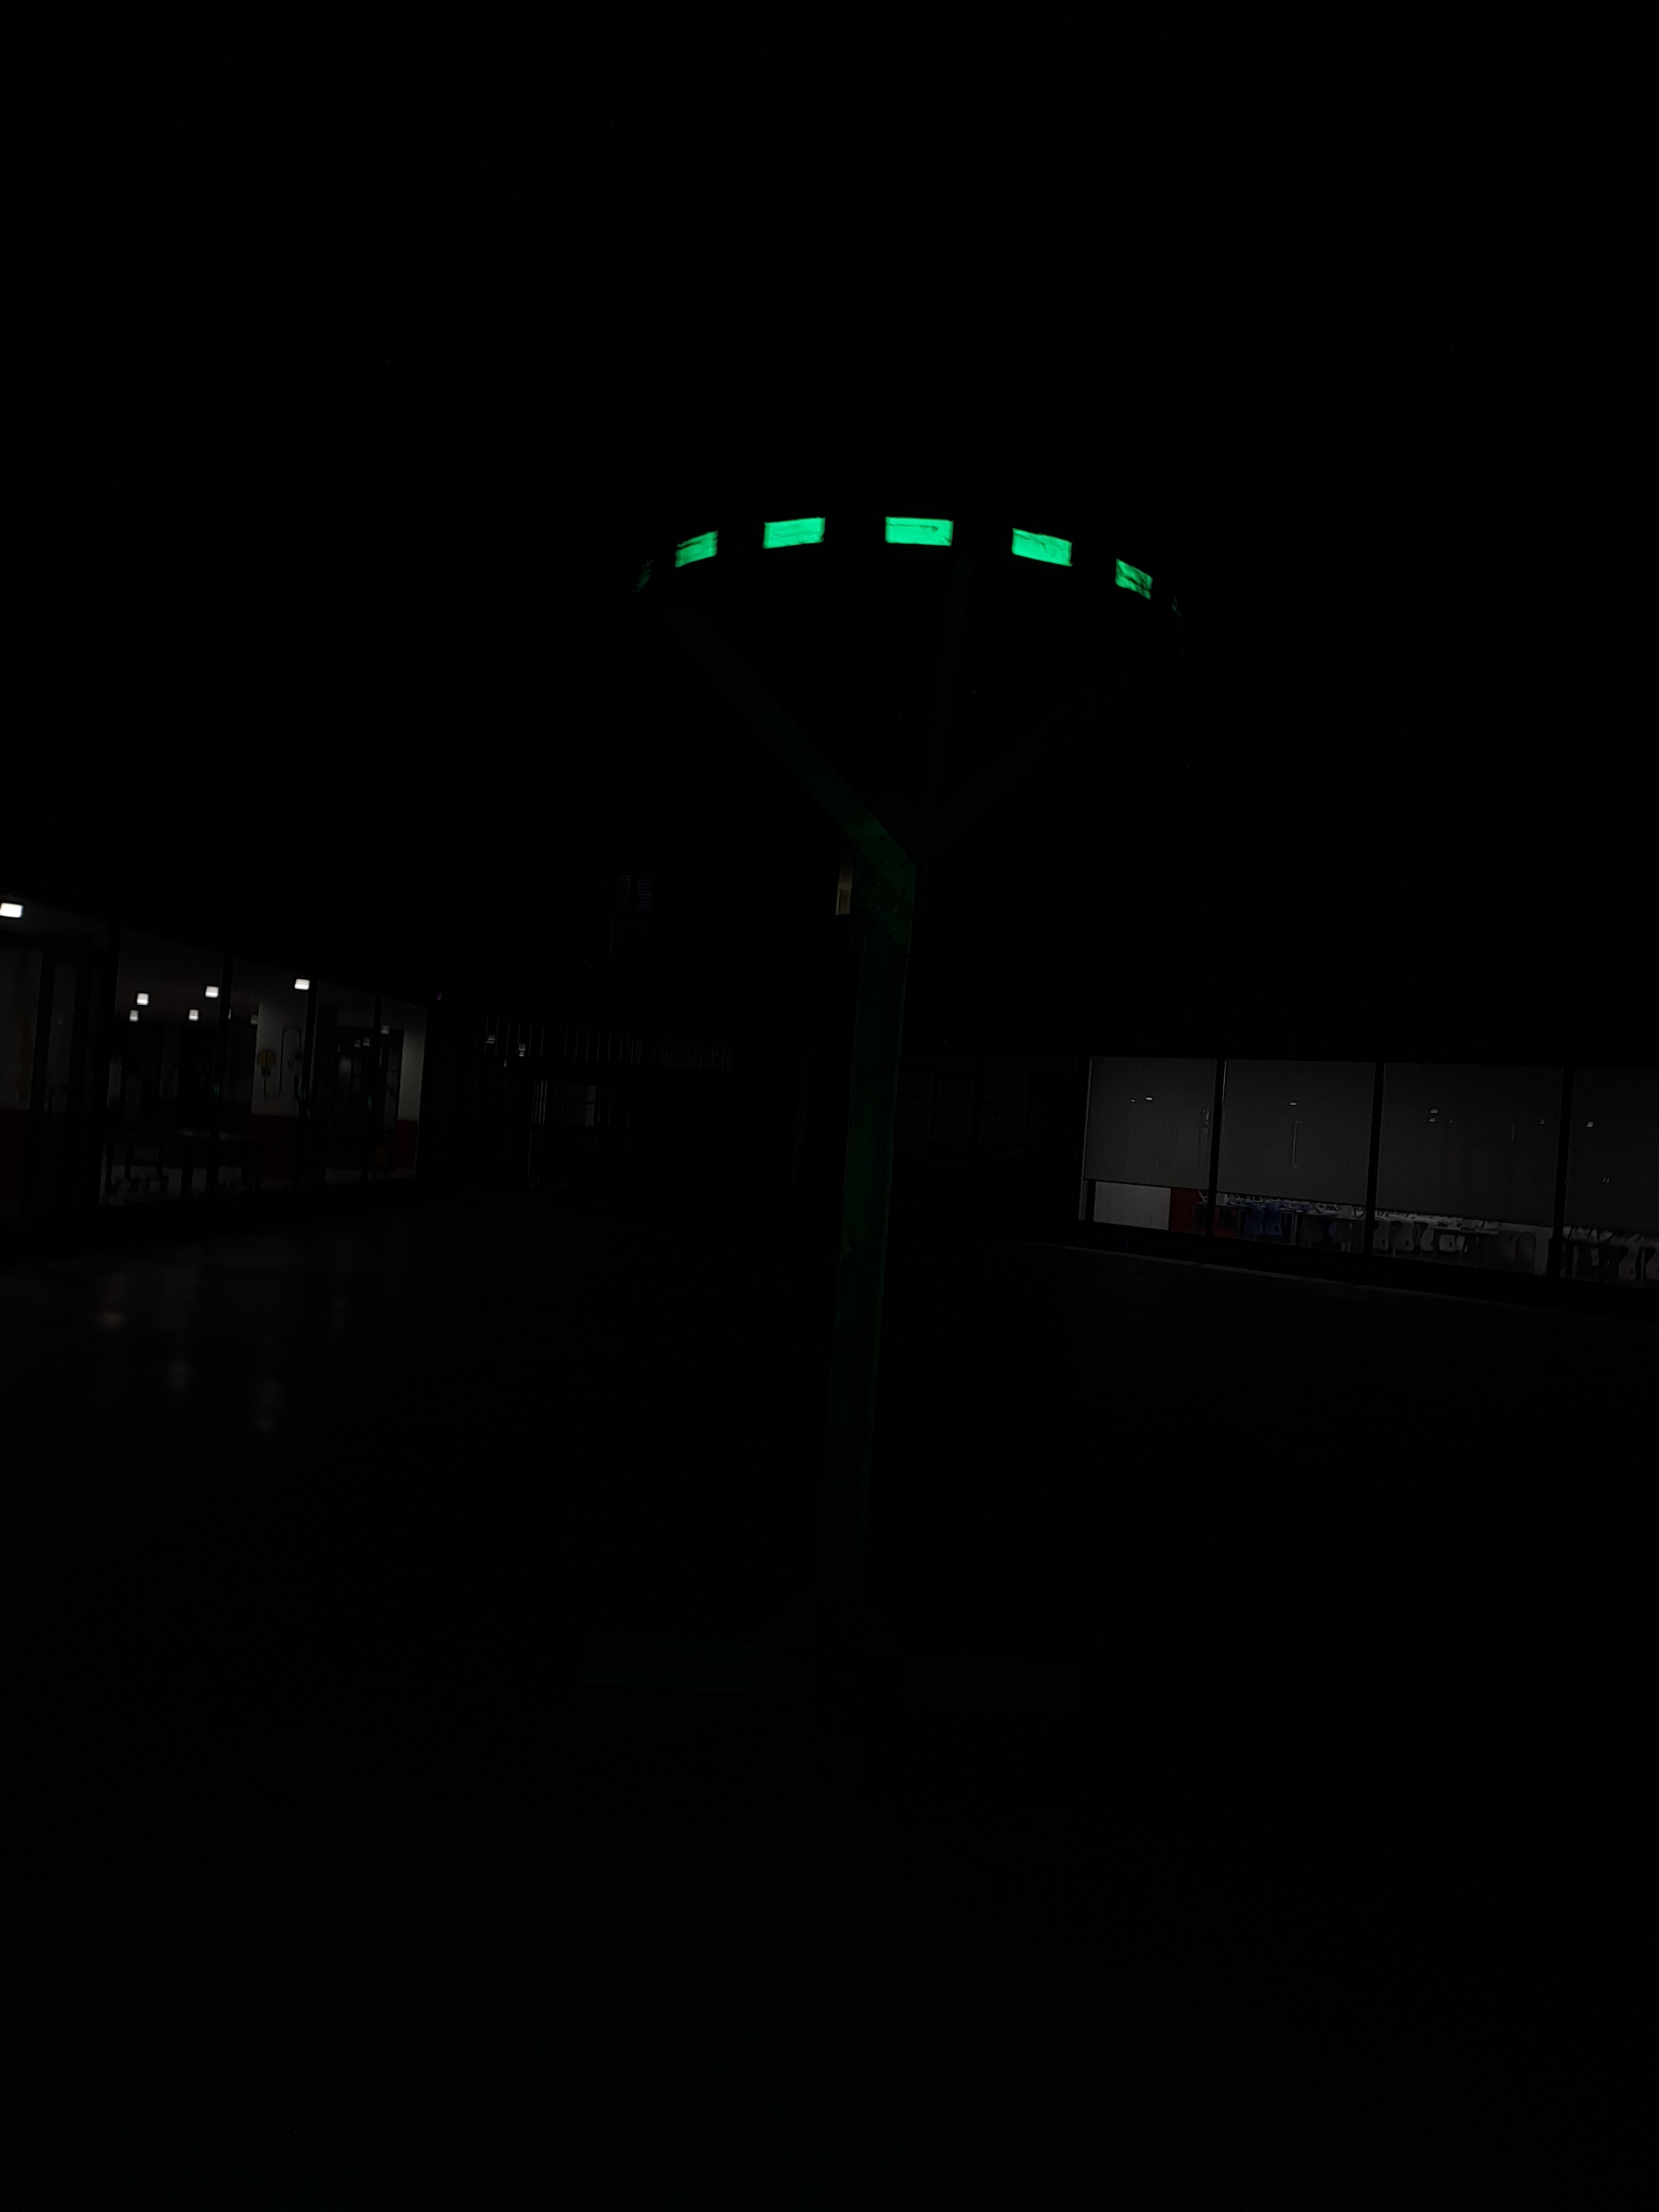hoop: (676, 514, 1157, 610)
